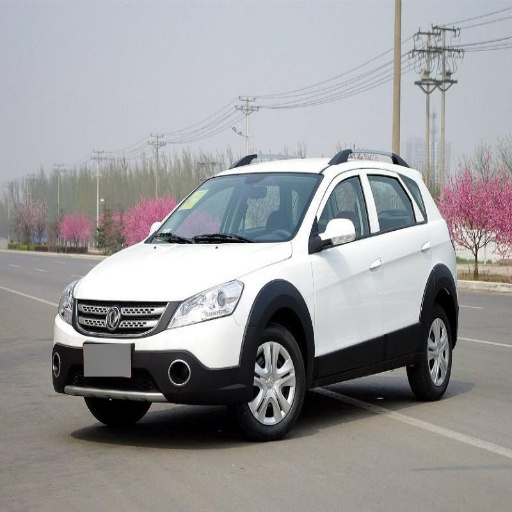front_bumper: (50, 298, 248, 405)
front_glass: (147, 173, 322, 242)
front_left_door: (310, 171, 386, 370)
